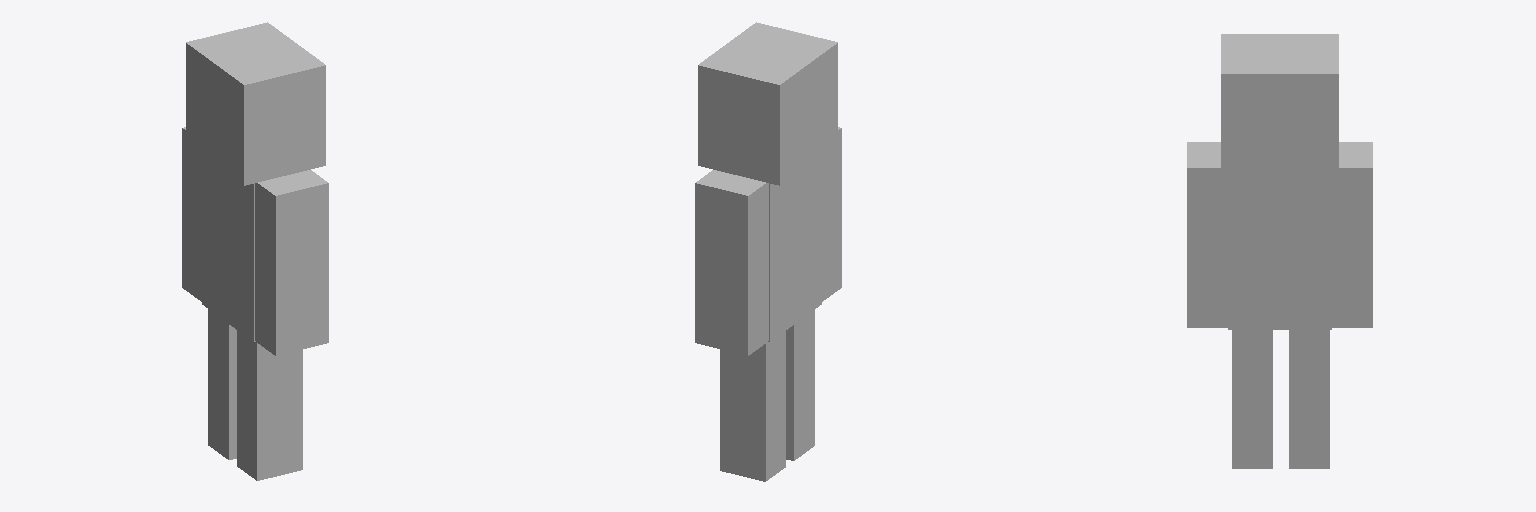
The model's file is zombie_frim.obj.
3 views of the same model, side by side, from view 1: azimuth 30°, elevation 25°; view 2: azimuth 150°, elevation 25°; view 3: azimuth 270°, elevation 25° (orthographic).
Visible parts, largest first — view 1: Head, LeftArm, LeftLeg, Torso, RightLeg, RightArm; view 2: Head, RightArm, RightLeg, Torso, LeftLeg, LeftArm; view 3: Head, Torso, RightArm, LeftArm, RightLeg, LeftLeg.
Boxes of the visible parts, x1,y1,x2,y2 form: Head: [186, 22, 325, 185]; LeftArm: [255, 170, 328, 355]; LeftLeg: [237, 330, 302, 480]; Torso: [202, 155, 255, 341]; RightLeg: [208, 309, 236, 459]; RightArm: [182, 127, 201, 301]; Head: [698, 22, 837, 185]; RightArm: [695, 170, 768, 355]; RightLeg: [720, 331, 785, 481]; Torso: [768, 155, 821, 341]; LeftLeg: [786, 310, 814, 460]; LeftArm: [822, 127, 841, 301]; Head: [1221, 34, 1338, 173]; Torso: [1228, 174, 1331, 329]; RightArm: [1332, 142, 1372, 327]; LeftArm: [1187, 142, 1227, 327]; RightLeg: [1289, 330, 1329, 468]; LeftLeg: [1232, 330, 1272, 468].
Bounding box in the file's own units: 0.6426 × 3.02 × 1.26.